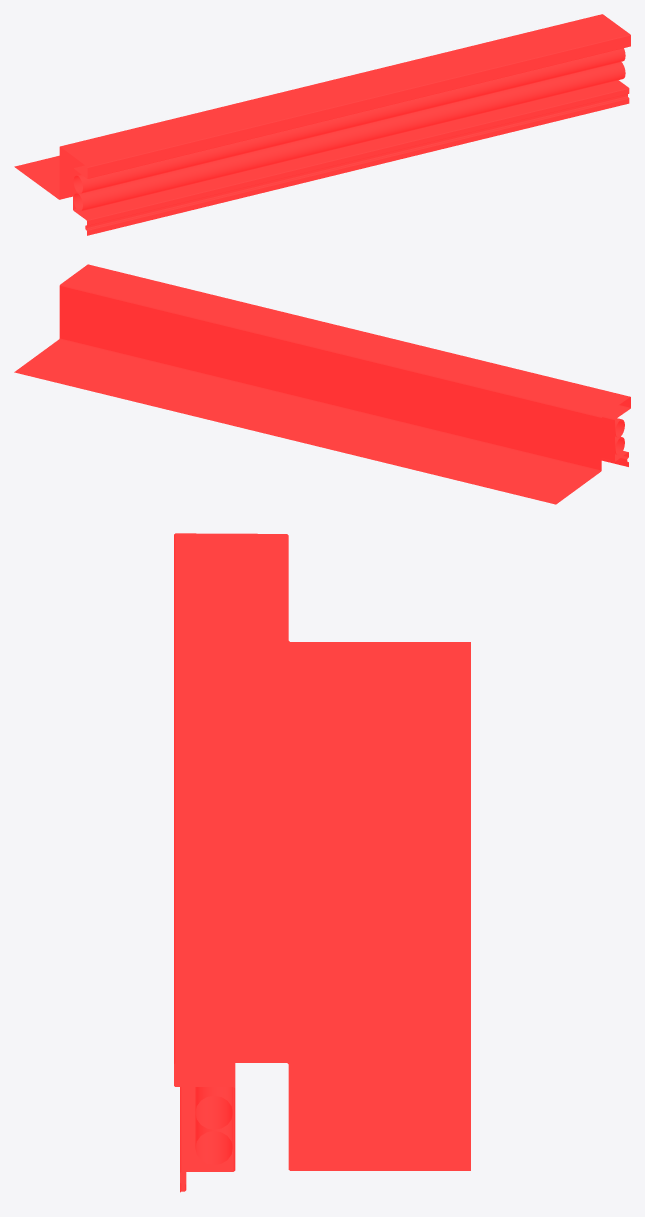
The model's file is Teto_Grande.fbx.
3 renders of one model, top to bottom at view 1: azimuth 30°, elevation 25°; view 2: azimuth 150°, elevation 25°; view 3: azimuth 270°, elevation 25°, orthographic. The views are drawn at different scales.
Visible parts, largest first — view 1: Teto_Grande; view 2: Teto_Grande; view 3: Teto_Grande.
Boxes of the visible parts, x1=… form: Teto_Grande: x1=14, y1=14, x2=630, y2=235; Teto_Grande: x1=14, y1=264, x2=630, y2=504; Teto_Grande: x1=174, y1=533, x2=470, y2=1192.
Size of the model in its own units: 1732 by 213 by 411.
